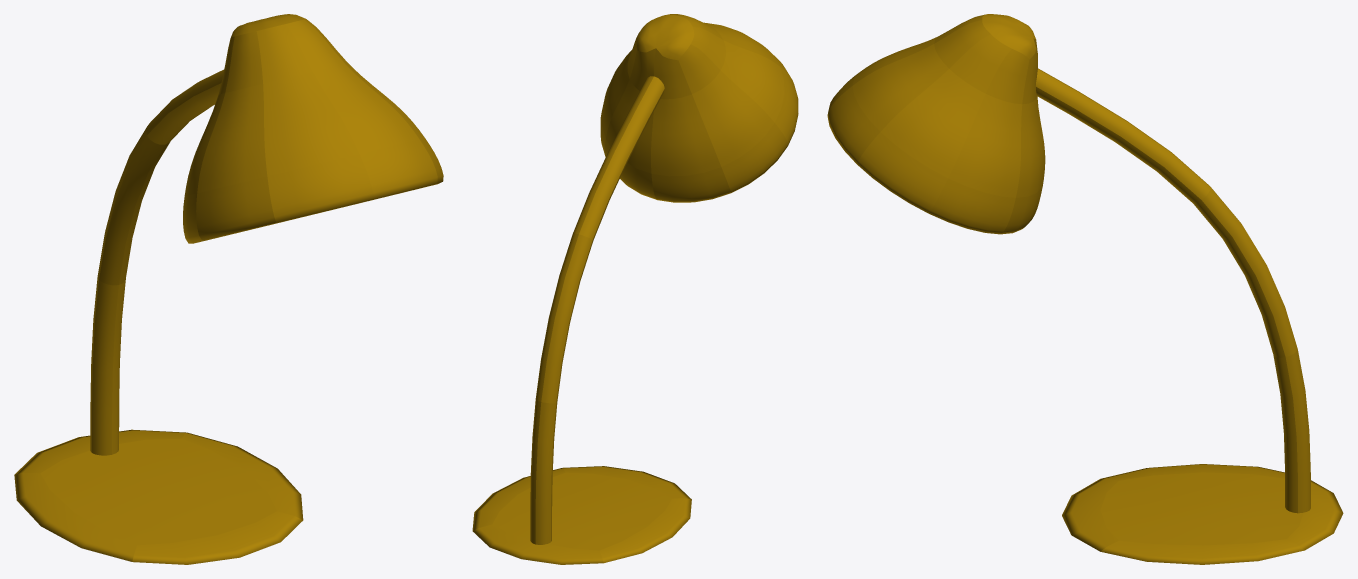
The model's file is light-table.obj.
3 views of the same model, side by side, from view 1: azimuth 30°, elevation 25°; view 2: azimuth 150°, elevation 25°; view 3: azimuth 270°, elevation 25° (orthographic). The views are drawn at different scales.
Parts seen in each view (by area): view 1: light-table; view 2: light-table; view 3: light-table.
Part boxes in pixels (x1,y1,x2,y2): light-table: (14, 14, 443, 564); light-table: (472, 14, 798, 564); light-table: (827, 14, 1343, 564).
Size of the model in its own units: 0.1499 by 0.3473 by 0.3234.
